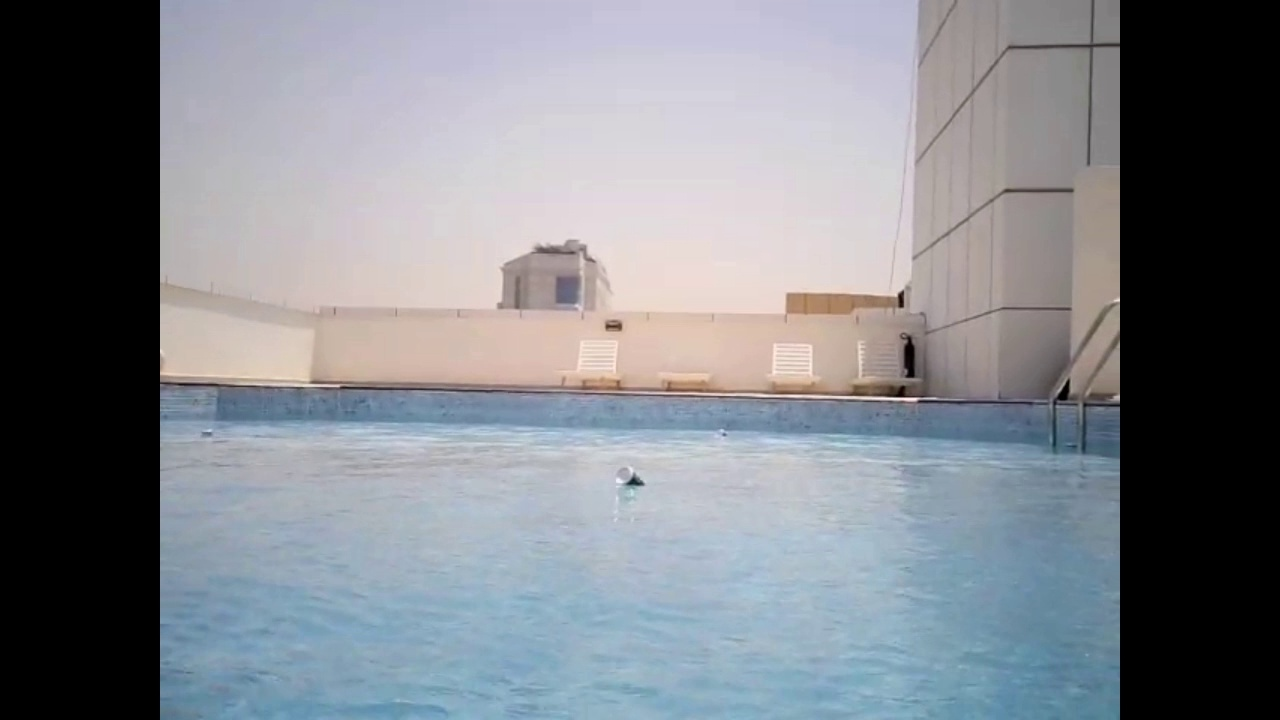debris: (607, 464, 652, 494), (194, 426, 218, 444), (709, 426, 730, 441)
